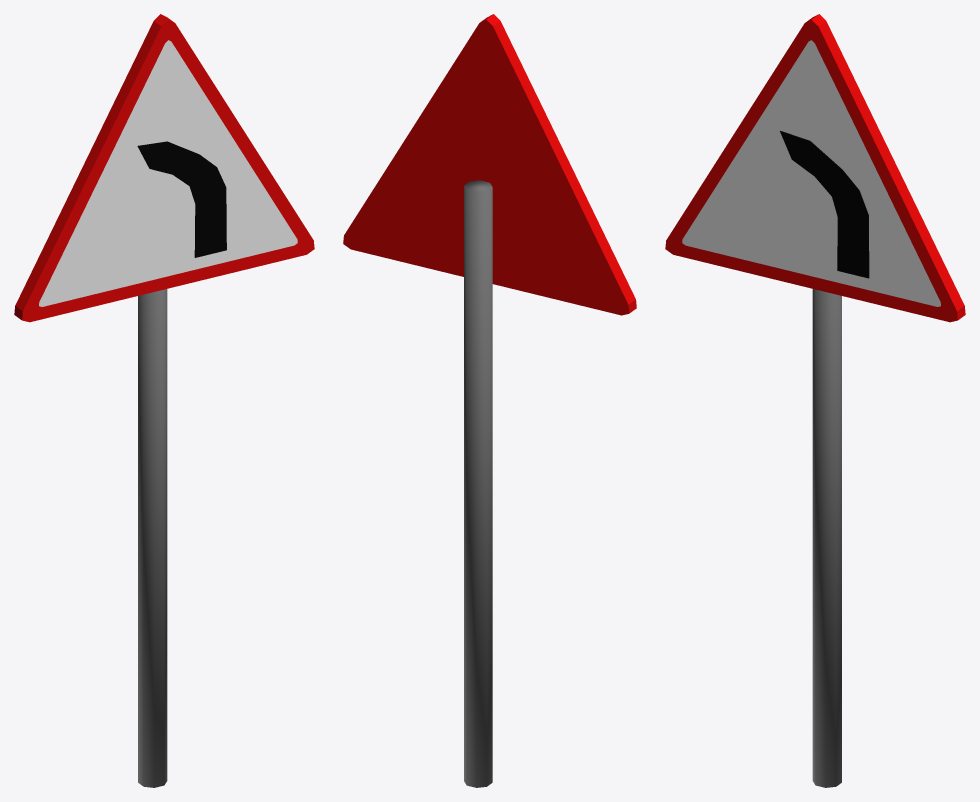
The model's file is Prop_StreetSign_TurnLeft.fbx.
3 views of the same model, side by side, from view 1: azimuth 30°, elevation 25°; view 2: azimuth 150°, elevation 25°; view 3: azimuth 330°, elevation 25° (orthographic). The views are drawn at different scales.
Visible parts, largest first — view 1: Prop_StreetSign_TurnLeft; view 2: Prop_StreetSign_TurnLeft; view 3: Prop_StreetSign_TurnLeft.
Boxes of the visible parts, x1,y1,x2,y2 form: Prop_StreetSign_TurnLeft: [14, 14, 314, 787]; Prop_StreetSign_TurnLeft: [343, 14, 636, 787]; Prop_StreetSign_TurnLeft: [665, 14, 965, 787].
Bounding box in the file's own units: 166 × 420 × 22.87.
